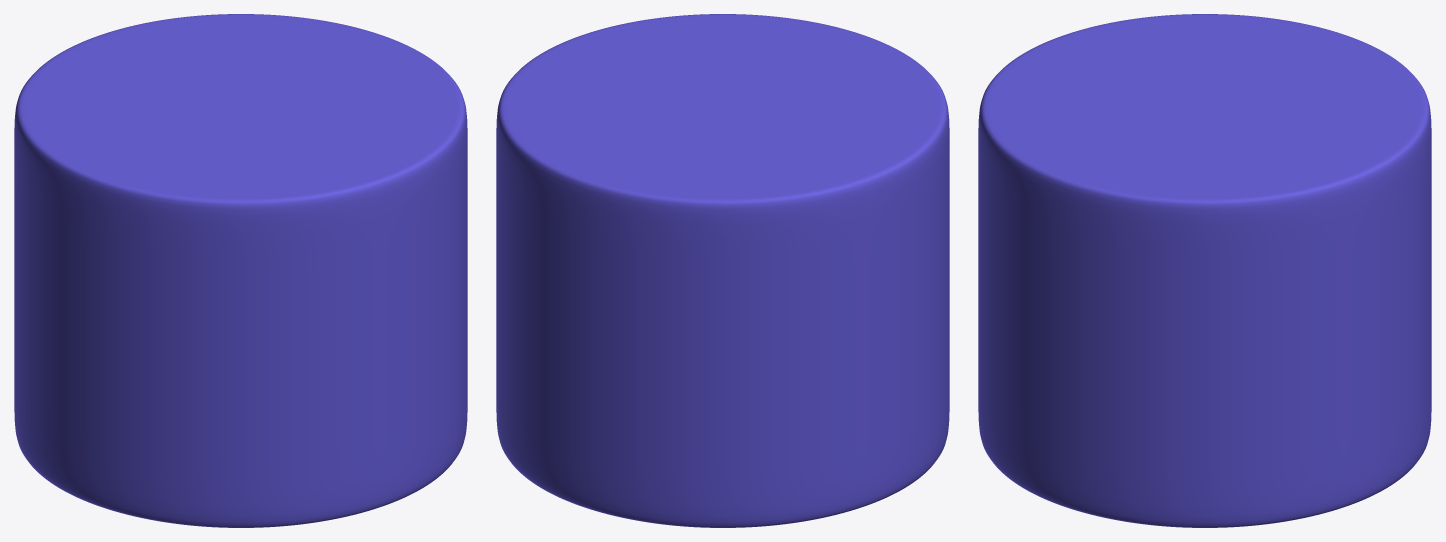
File: Cake_Layer_1_Purple.glb
The picture shows the model from 3 angles, left to right: view 1: azimuth 30°, elevation 25°; view 2: azimuth 150°, elevation 25°; view 3: azimuth 270°, elevation 25°; orthographic projection.
Visible parts, largest first — view 1: Circle; view 2: Circle; view 3: Circle.
Boxes of the visible parts, bbox=[...] form: Circle: bbox=[14, 14, 467, 527]; Circle: bbox=[496, 14, 949, 527]; Circle: bbox=[978, 14, 1431, 527].
Size of the model in its own units: 0.15 by 0.12 by 0.15.
